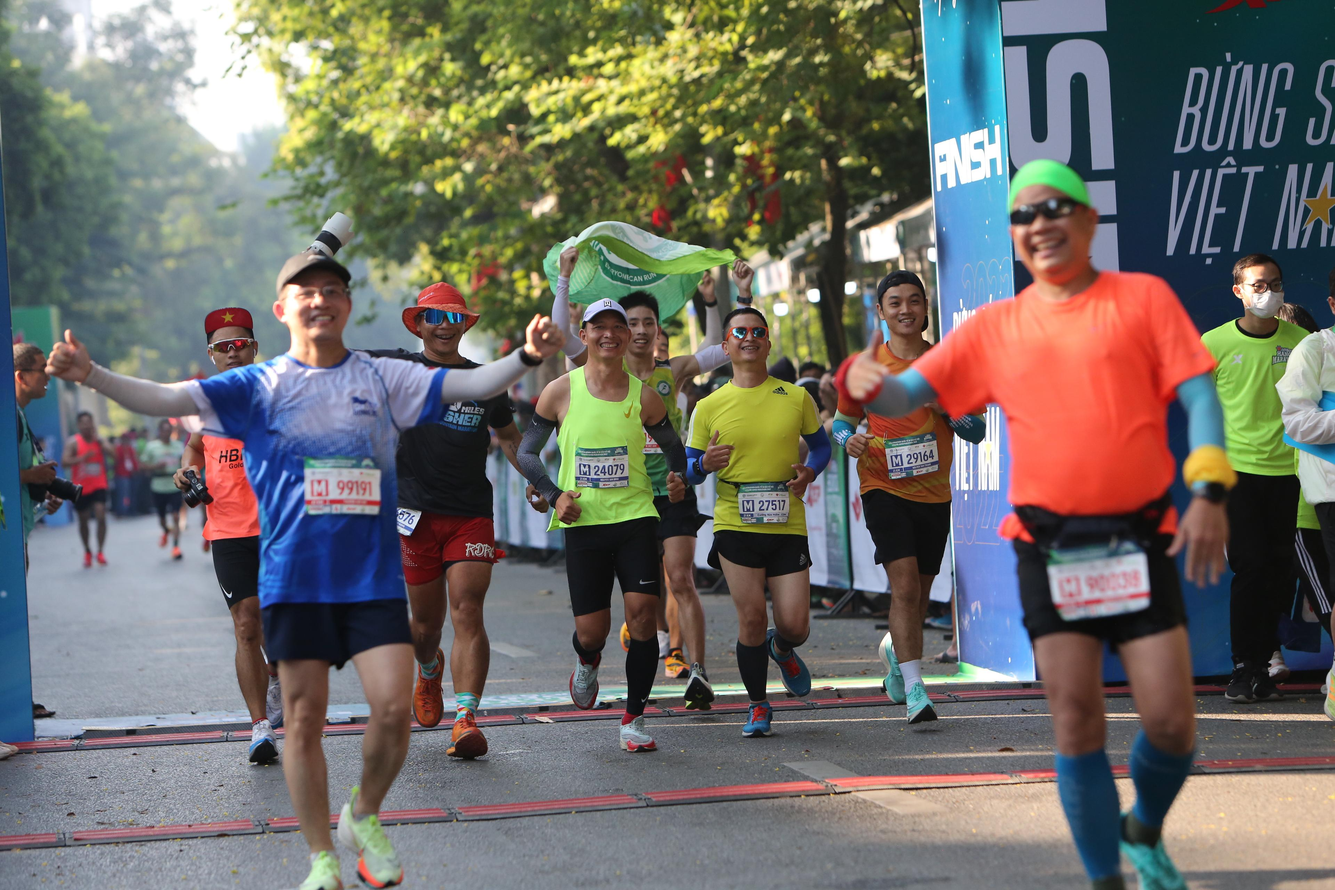bib: (1046, 537, 1149, 623), (302, 459, 380, 518), (883, 435, 939, 482), (737, 482, 790, 524), (573, 447, 628, 487), (395, 507, 421, 535)
